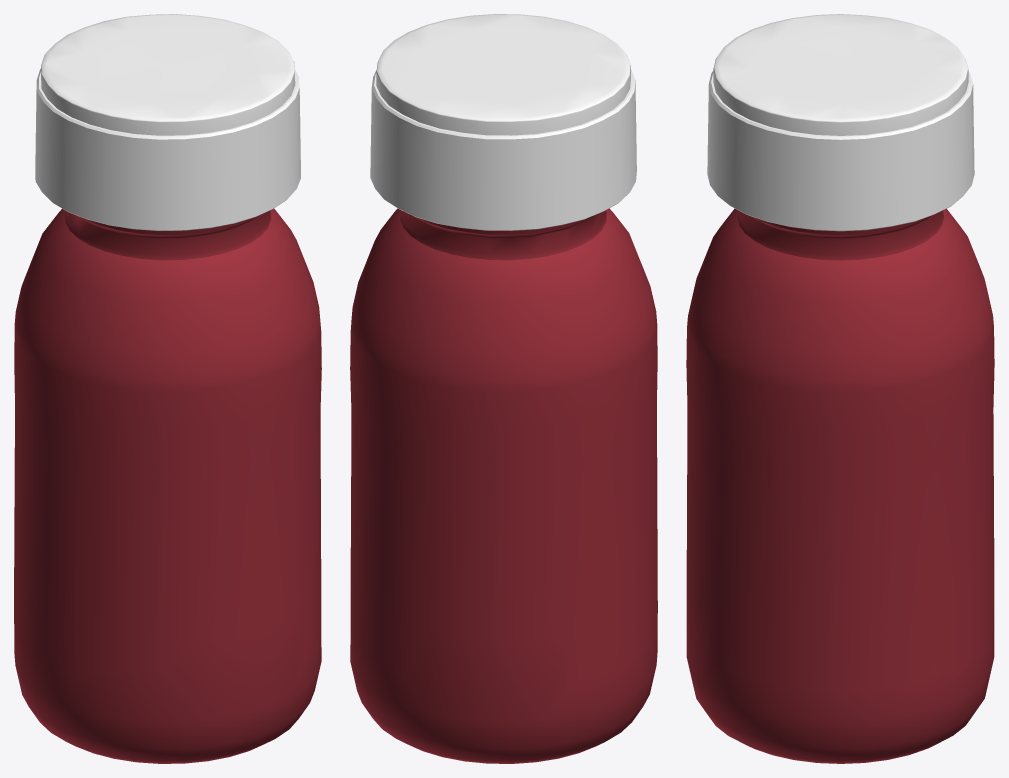
Rendered from reagent.fbx.
The picture shows the model from 3 angles, left to right: view 1: azimuth 30°, elevation 25°; view 2: azimuth 150°, elevation 25°; view 3: azimuth 270°, elevation 25°; orthographic projection.
Parts seen in each view (by area): view 1: reagent_LOD0; view 2: reagent_LOD0; view 3: reagent_LOD0.
Boxes of the visible parts, x1,y1,x2,y2 form: reagent_LOD0: [14, 14, 321, 763]; reagent_LOD0: [350, 14, 657, 763]; reagent_LOD0: [686, 14, 994, 763].
Size of what is drawn, in the model's own units: 80.2 by 186 by 80.16.
